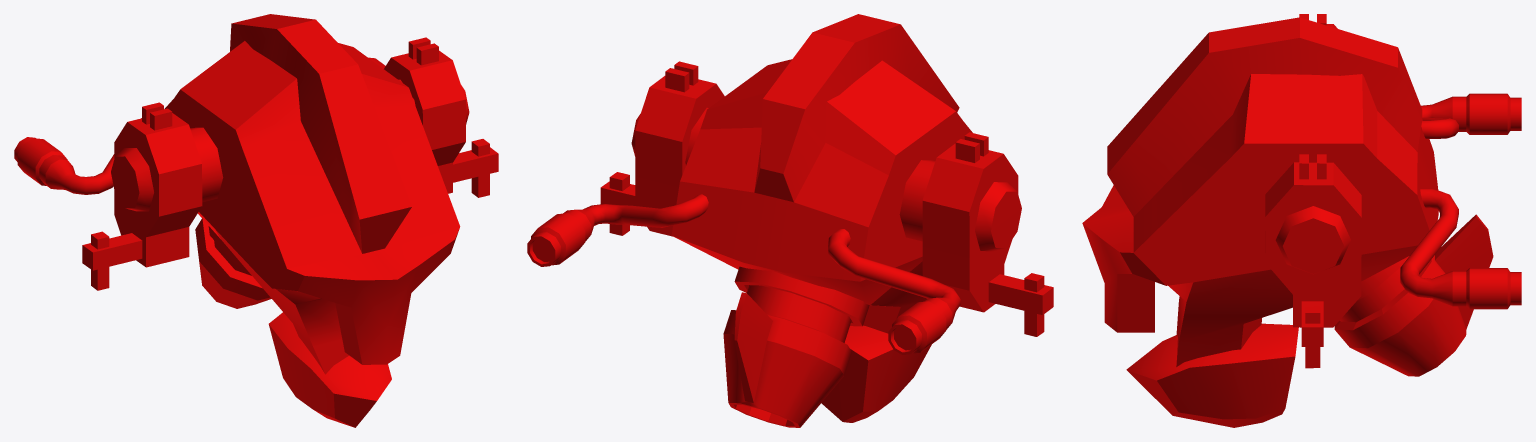
File: robHeavy_body.fbx
The picture shows the model from 3 angles, left to right: view 1: azimuth 30°, elevation 25°; view 2: azimuth 150°, elevation 25°; view 3: azimuth 270°, elevation 25°; orthographic projection. The views are drawn at different scales.
Parts seen in each view (by area): view 1: robHeavy_body; view 2: robHeavy_body; view 3: robHeavy_body.
Boxes of the visible parts, x1,y1,x2,y2 form: robHeavy_body: (14,14,498,427); robHeavy_body: (527,14,1053,427); robHeavy_body: (1082,14,1521,427).
Size of the model in its own units: 89.18 by 78 by 77.57.
